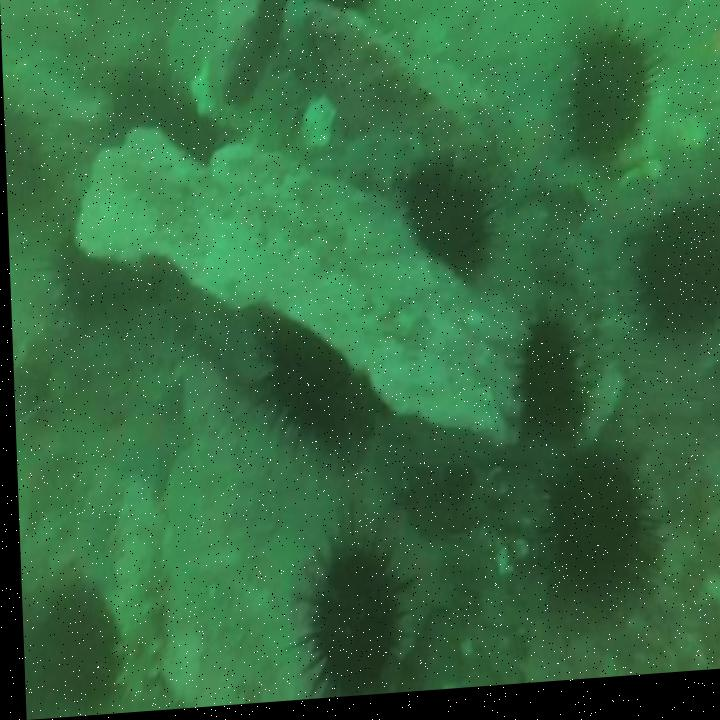echinus: (304, 544, 397, 702), (543, 469, 644, 611), (33, 568, 110, 710), (638, 220, 720, 353), (567, 39, 650, 168), (265, 341, 352, 454), (404, 164, 483, 281), (517, 326, 579, 447), (50, 240, 99, 314)
holothurian: (109, 542, 157, 711)
scallop: (299, 93, 335, 157)
starfish: (116, 378, 189, 506), (389, 510, 448, 664)
